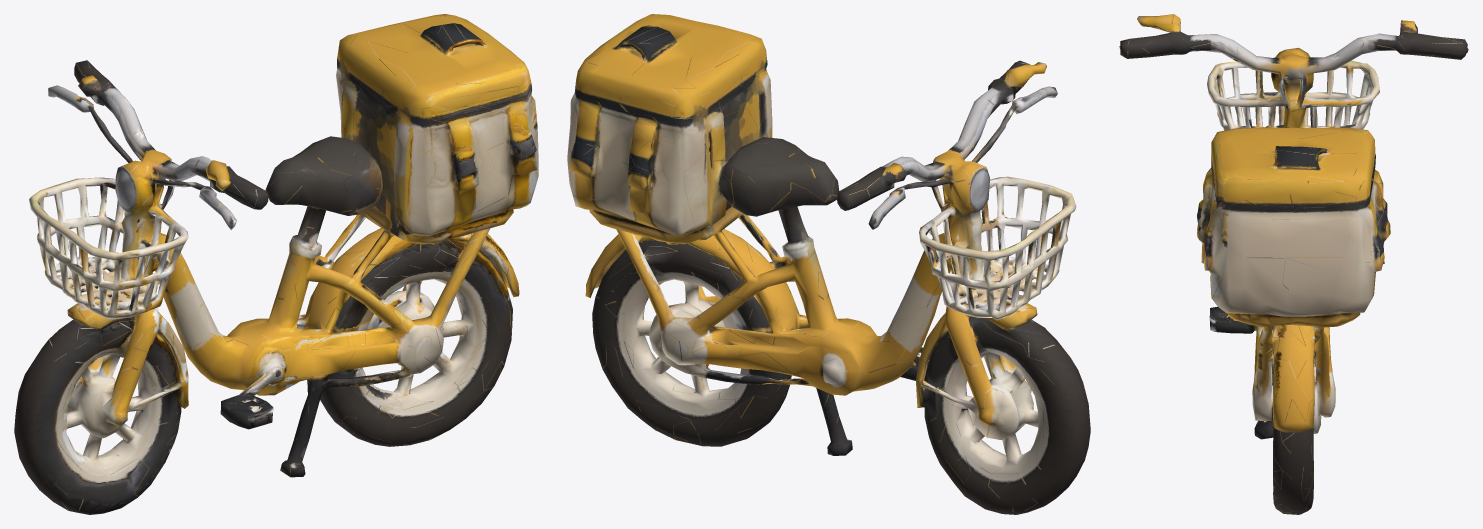
File: bicycle.glb
3 views of the same model, side by side, from view 1: azimuth 30°, elevation 25°; view 2: azimuth 150°, elevation 25°; view 3: azimuth 270°, elevation 25° (orthographic). The views are drawn at different scales.
Visible parts, largest first — view 1: geometry_0; view 2: geometry_0; view 3: geometry_0.
Part boxes in pixels (left/top/right/bottom): geometry_0: left=14, top=14, right=538, bottom=514; geometry_0: left=567, top=14, right=1090, bottom=514; geometry_0: left=1119, top=14, right=1468, bottom=514.
Bounding box in the file's own units: 1.99 × 1.52 × 1.28.
Materials: 1 (1 with a texture image).
